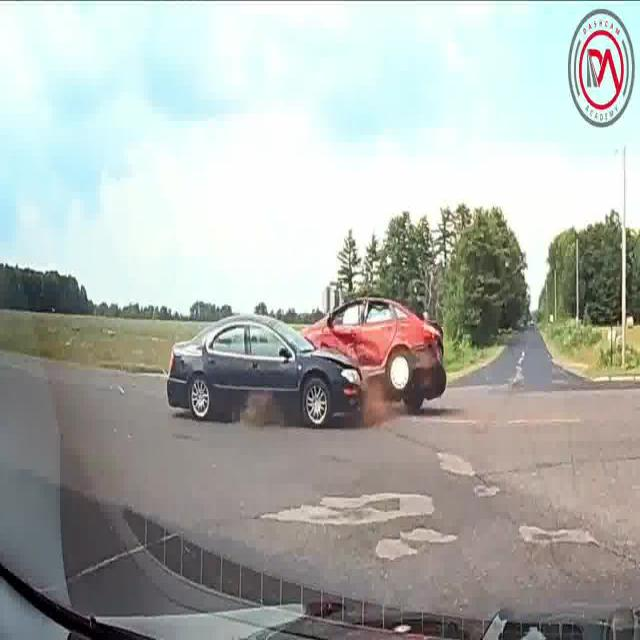Accident: (156, 244, 458, 463)
